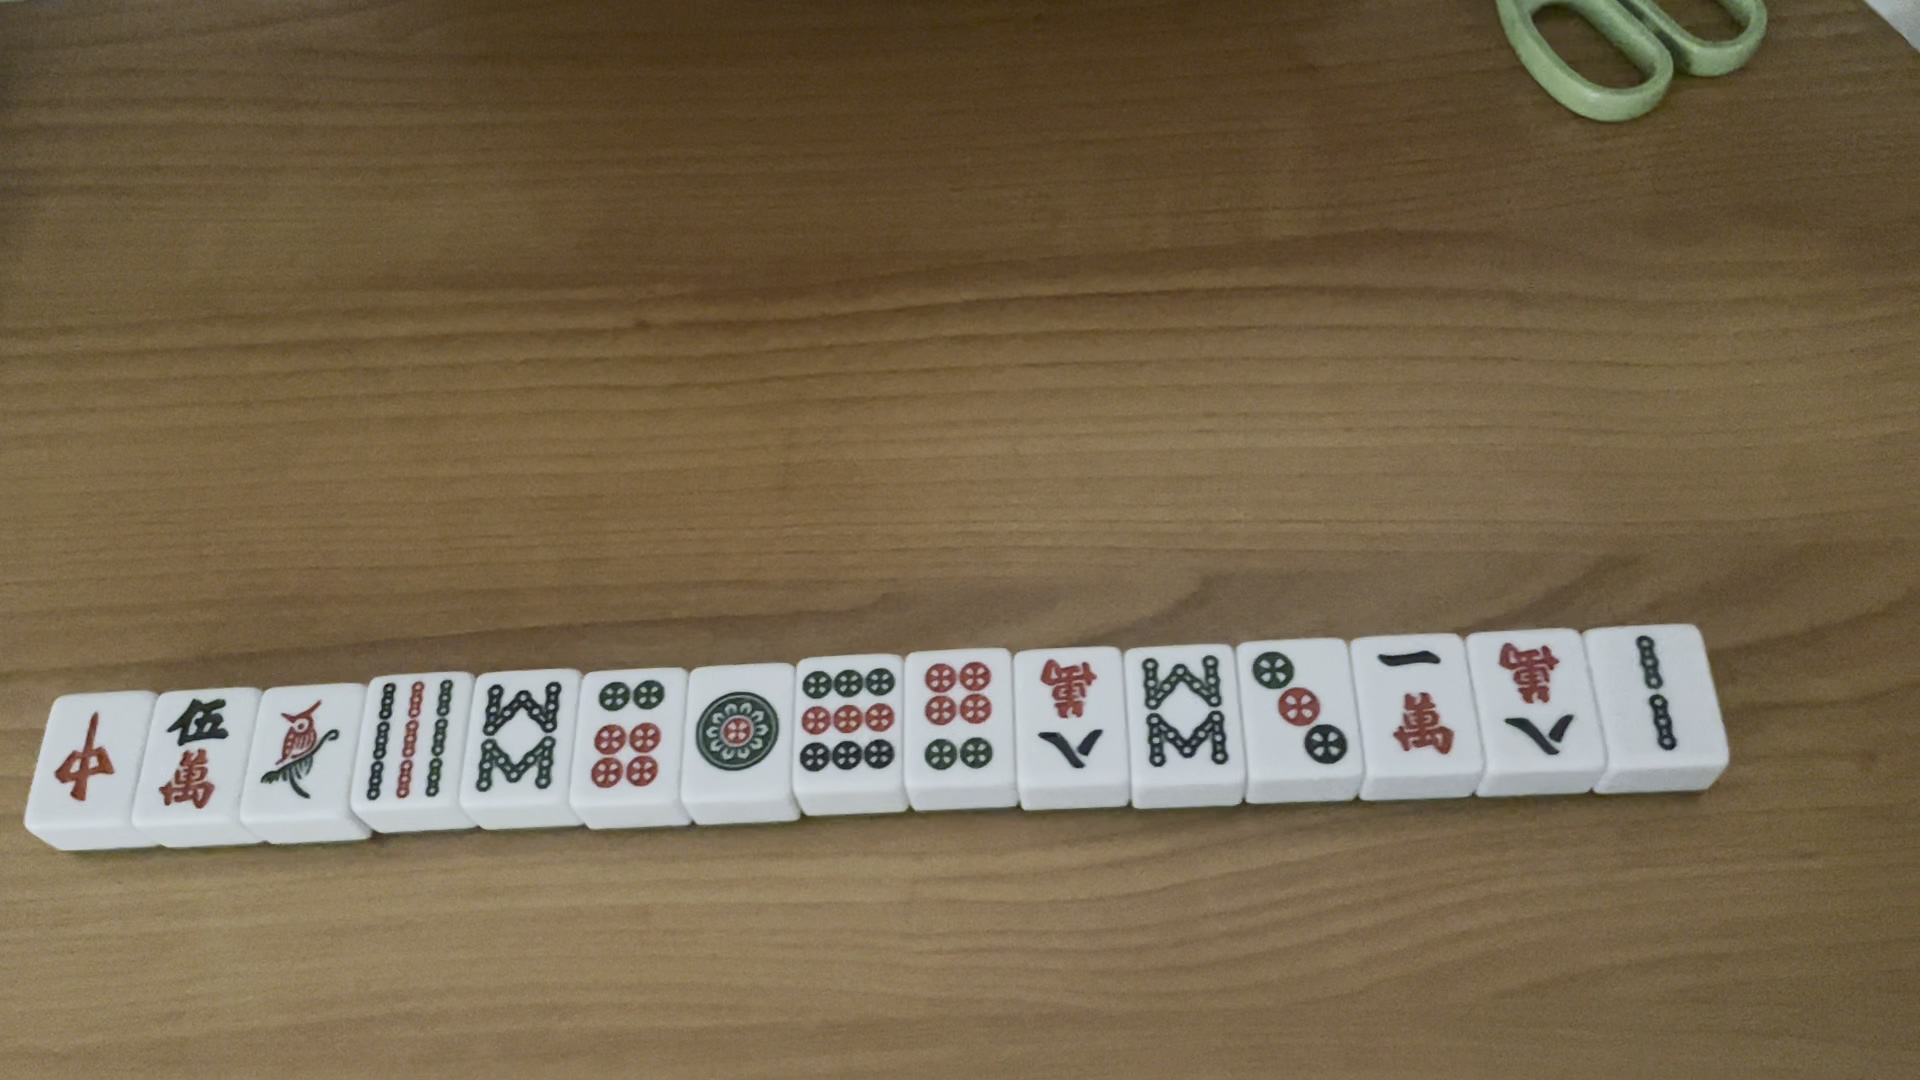b-1: (257, 701, 345, 806)
b-2: (1623, 634, 1689, 754)
b-8: (1135, 645, 1229, 775), (477, 675, 561, 801)
b-9: (367, 677, 460, 802)
c-1: (1373, 647, 1461, 763)
c-5: (147, 695, 235, 809)
c-8: (1490, 631, 1583, 763), (1035, 660, 1104, 776)
d-1: (689, 683, 789, 788)
d-3: (1254, 638, 1351, 770)
d-6: (910, 657, 1002, 779), (589, 677, 668, 796)
d-9: (802, 662, 897, 775)
honors-red: (45, 702, 122, 812)
